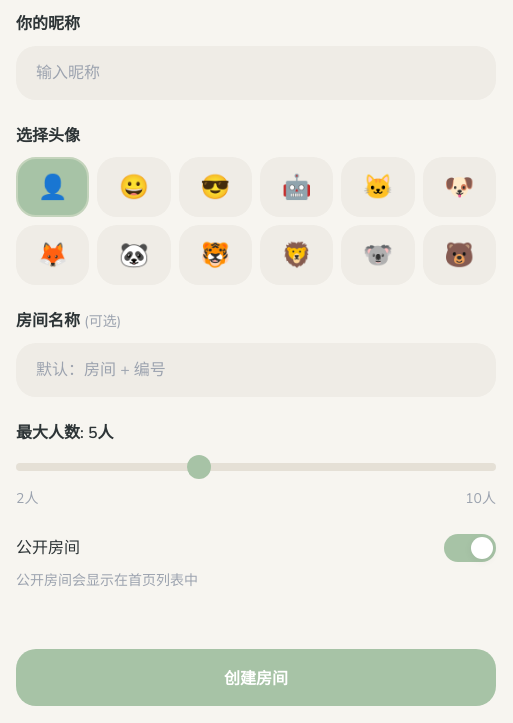
Scenario: RoomForm › 表单提交测试 › 提交时应该显示加载状态
Type "测试用户" into the field with placeholder "输入昵称" at (256, 73), box x1=16 y1=46 x2=496 y2=100
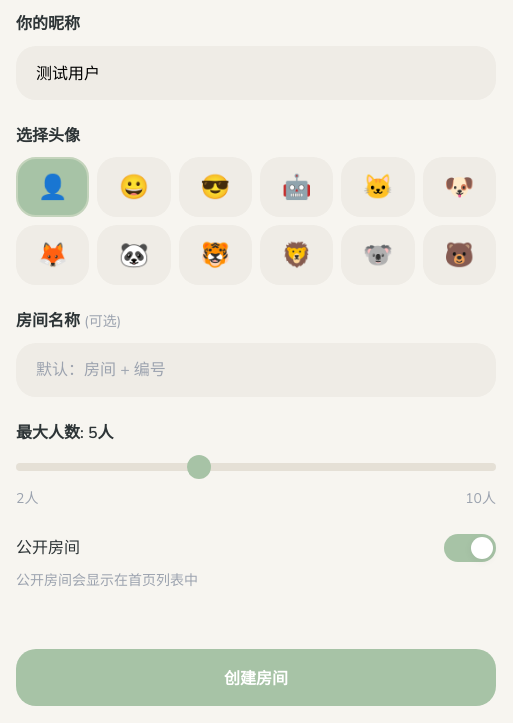
Submit the form
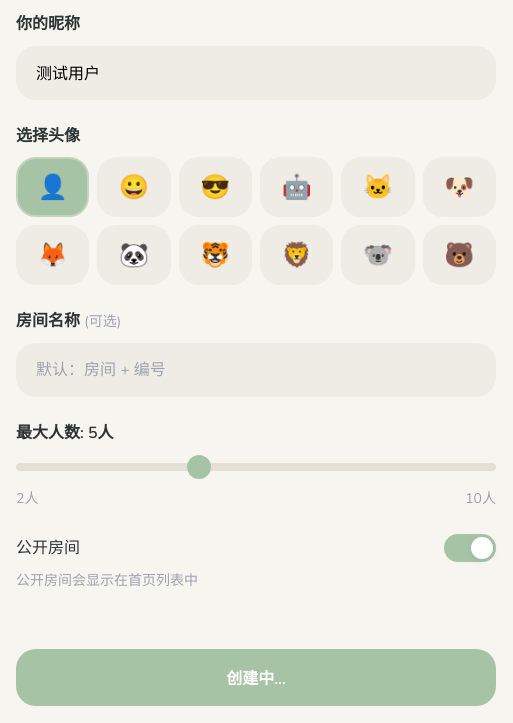
Expected: the submit button reads "创建中...", x1=16 y1=649 x2=496 y2=706
Expected: the submit button is disabled, x1=16 y1=649 x2=496 y2=706
